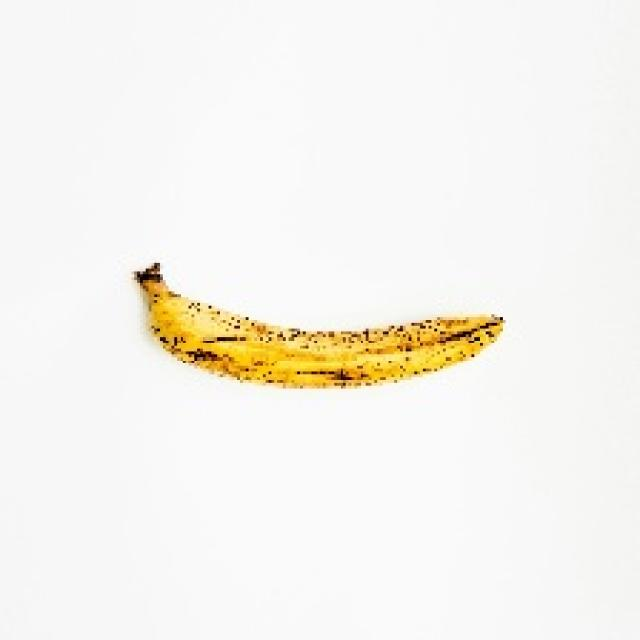Banana: (131, 260, 503, 389)
